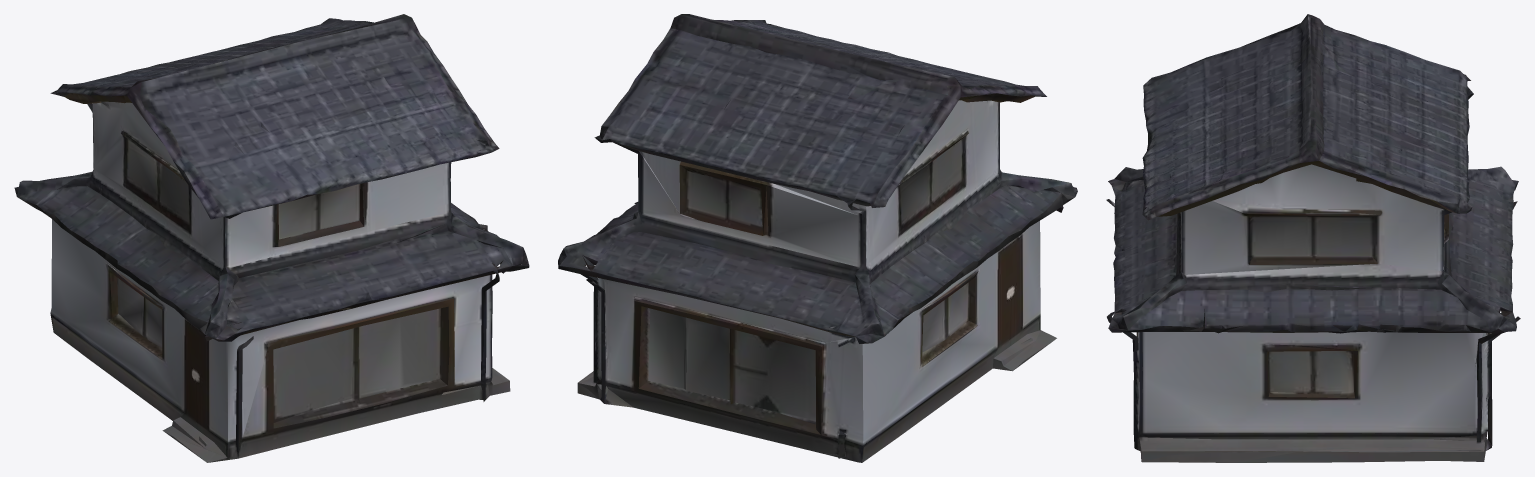
The model's file is house.glb.
3 renders of one model, left to right at view 1: azimuth 30°, elevation 25°; view 2: azimuth 150°, elevation 25°; view 3: azimuth 270°, elevation 25°, orthographic. The views are drawn at different scales.
Visible parts, largest first — view 1: house; view 2: house; view 3: house.
Boxes of the visible parts, box(x1,y1,x2,y2) form: house: box(14, 14, 529, 462); house: box(558, 14, 1077, 462); house: box(1106, 14, 1520, 462).
Size of the model in its own units: 7.96 by 7.5 by 9.02.
1 material, 1 textured.
